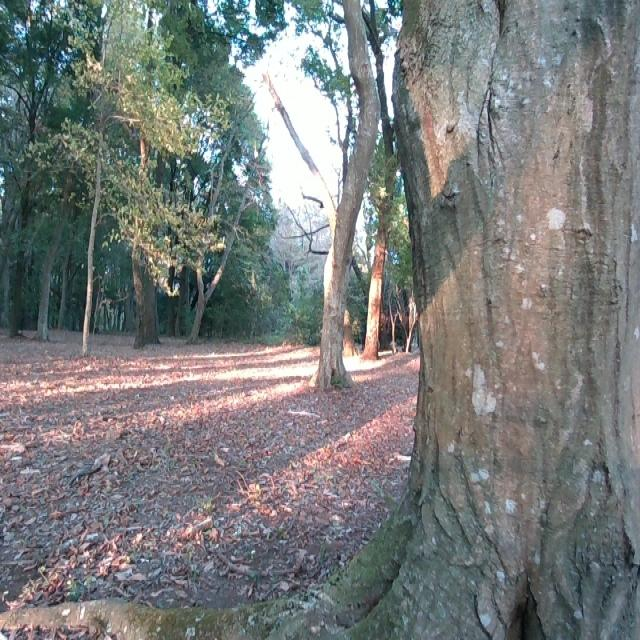tree: (382, 0, 640, 640), (310, 0, 380, 395), (193, 142, 254, 342), (81, 2, 113, 354), (131, 0, 160, 349), (363, 167, 394, 357)
